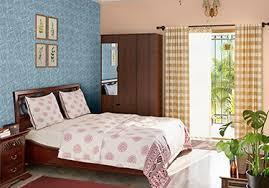bed: (13, 82, 184, 184)
light: (200, 1, 223, 27)
table: (1, 128, 29, 188), (219, 171, 250, 188)
